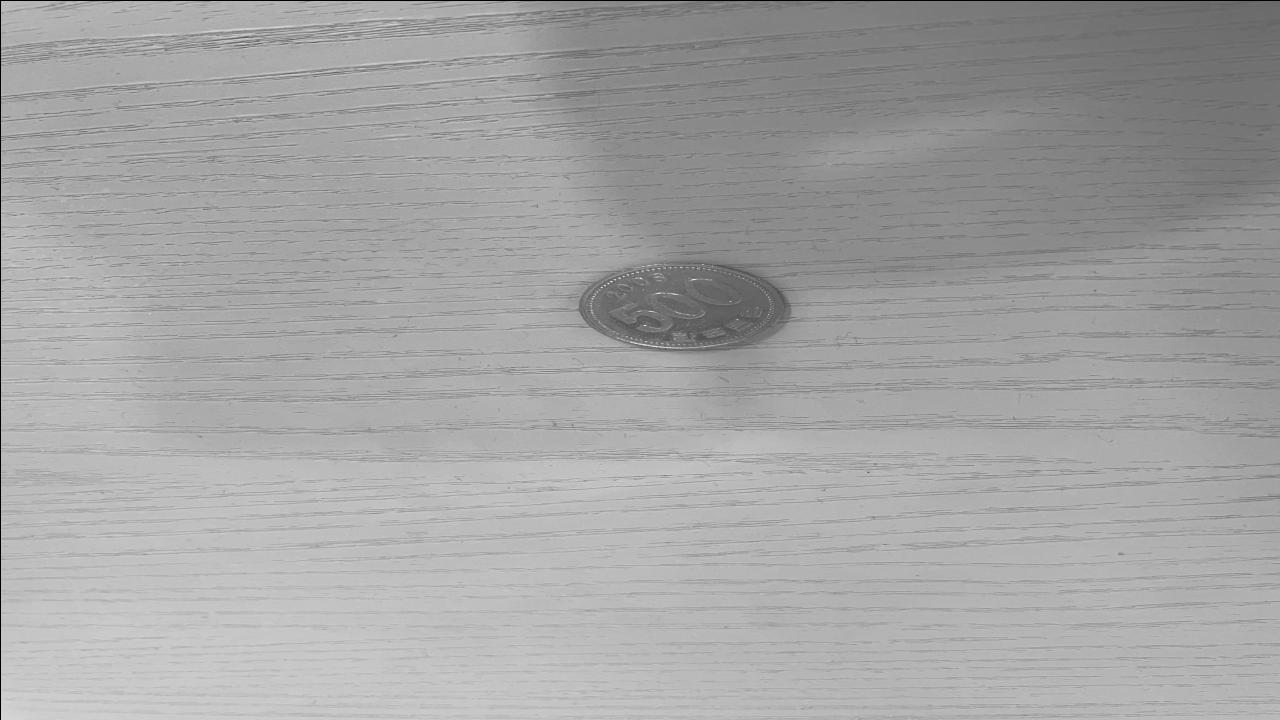coin: (571, 258, 793, 352)
